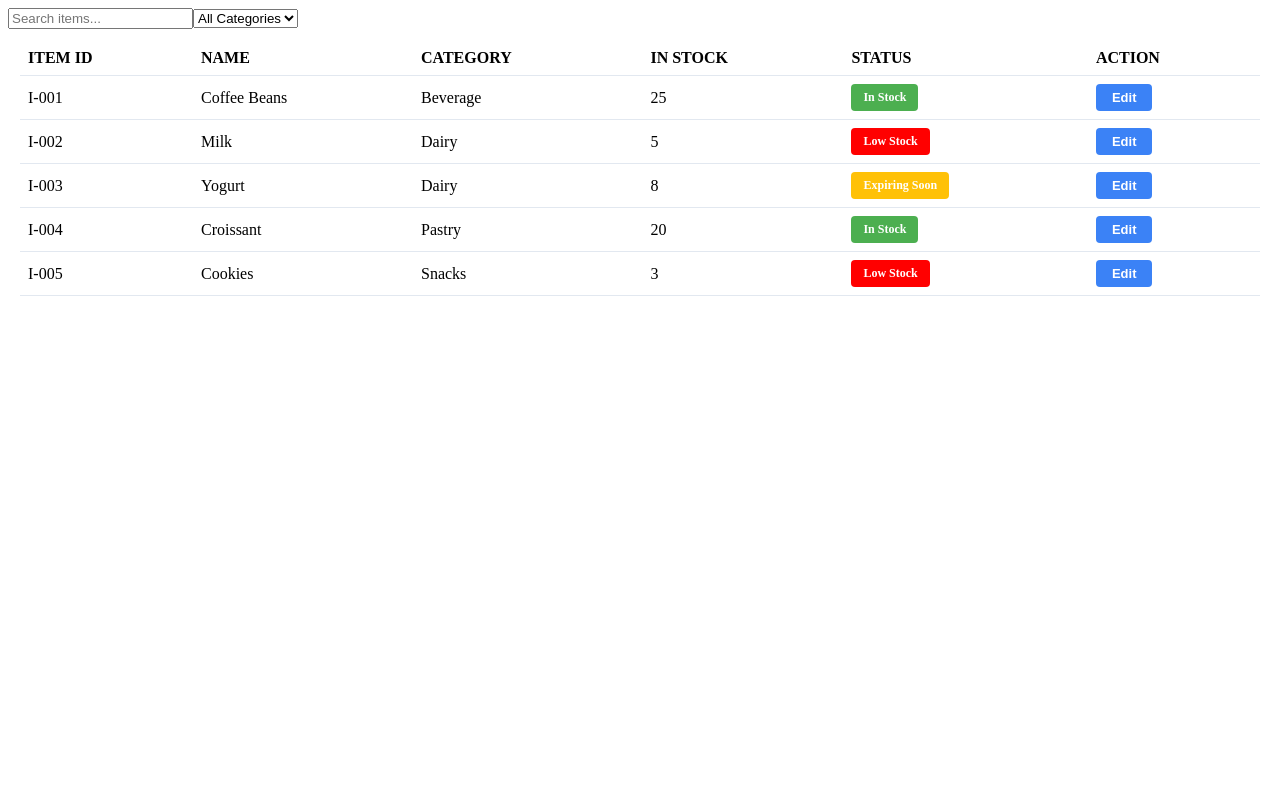
it: InventoryTable - Interaction Linking (OB2W3D2) › Row-specific Edit Linking › edit buttons are accessible and clickable
Click the button "Edit" in the row of "I-001" at (1124, 98), box [1096,84,1152,111]
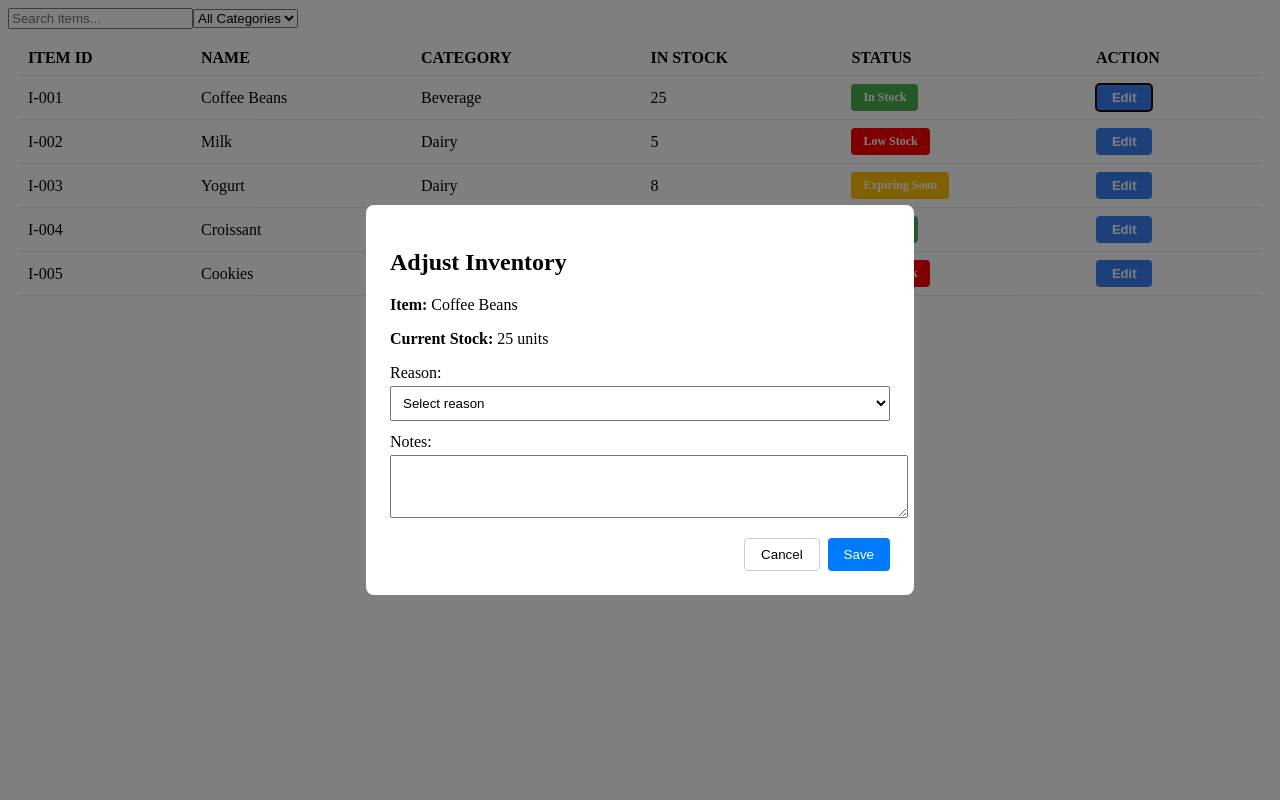
Expected: the element with test id "modal" is shown
